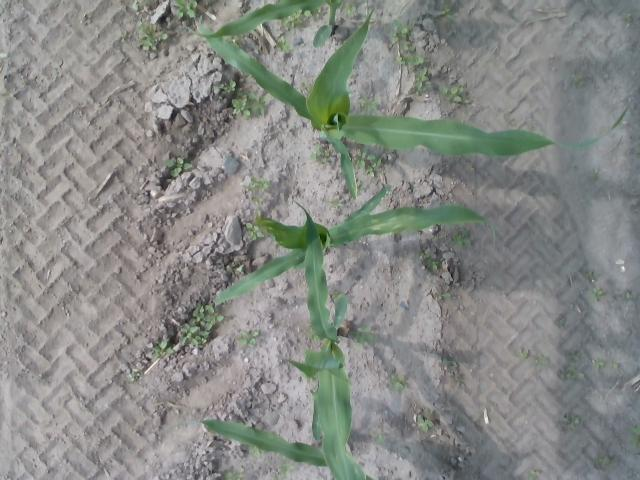Maize: (193, 8, 634, 201), (213, 186, 496, 313), (286, 198, 367, 480), (173, 381, 375, 480), (187, 0, 348, 48)
Weeds: (176, 301, 228, 347), (389, 18, 426, 68), (230, 90, 270, 120), (134, 21, 168, 54), (355, 147, 383, 179), (164, 155, 196, 178), (350, 324, 373, 352), (148, 342, 176, 364), (554, 410, 581, 432), (173, 0, 199, 22), (439, 85, 467, 103), (236, 327, 261, 346), (388, 373, 410, 394), (414, 412, 436, 432), (310, 144, 330, 166), (450, 227, 472, 247), (280, 9, 302, 29), (358, 94, 378, 115), (244, 222, 265, 242), (412, 66, 428, 92), (242, 176, 270, 190), (558, 364, 582, 380), (213, 78, 237, 94), (420, 253, 440, 270), (436, 5, 452, 26), (534, 353, 552, 371), (586, 286, 606, 302), (224, 262, 245, 277), (595, 455, 615, 470), (628, 425, 640, 448), (322, 197, 344, 209), (450, 374, 467, 389), (442, 358, 460, 372), (248, 444, 264, 459), (80, 11, 94, 28), (306, 322, 318, 341), (128, 370, 144, 384), (372, 430, 388, 444), (584, 268, 600, 282), (221, 471, 245, 480), (592, 357, 606, 372), (342, 1, 357, 15), (435, 288, 452, 300), (280, 460, 294, 474), (554, 314, 566, 330), (572, 72, 584, 88), (566, 352, 582, 363), (275, 40, 291, 51), (622, 12, 634, 26), (518, 346, 530, 359), (131, 0, 142, 14), (119, 31, 130, 45), (528, 469, 540, 480), (590, 168, 600, 181), (250, 196, 262, 206), (233, 38, 244, 48), (332, 290, 341, 302), (612, 362, 622, 372), (300, 82, 310, 92), (624, 292, 634, 301), (510, 117, 518, 128), (467, 163, 476, 172), (304, 10, 312, 20), (316, 8, 322, 21), (272, 474, 284, 480), (0, 52, 8, 60), (356, 183, 365, 190), (1, 92, 10, 98), (130, 332, 138, 338), (242, 73, 252, 77), (635, 146, 640, 154)
